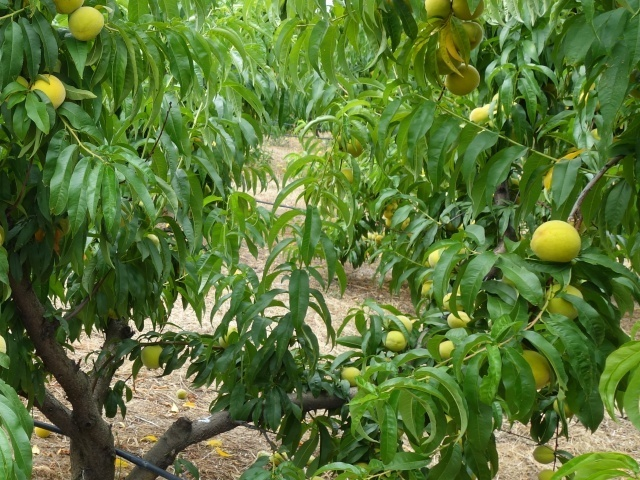peach: (527, 213, 587, 268), (540, 274, 588, 325), (514, 346, 562, 393), (26, 70, 68, 114), (65, 4, 108, 43), (448, 60, 484, 101), (453, 16, 487, 50), (139, 340, 167, 373), (377, 325, 410, 353), (447, 1, 492, 21), (438, 47, 467, 78), (418, 1, 459, 21), (531, 439, 559, 468), (443, 306, 473, 332), (338, 362, 364, 388), (441, 288, 467, 314)
